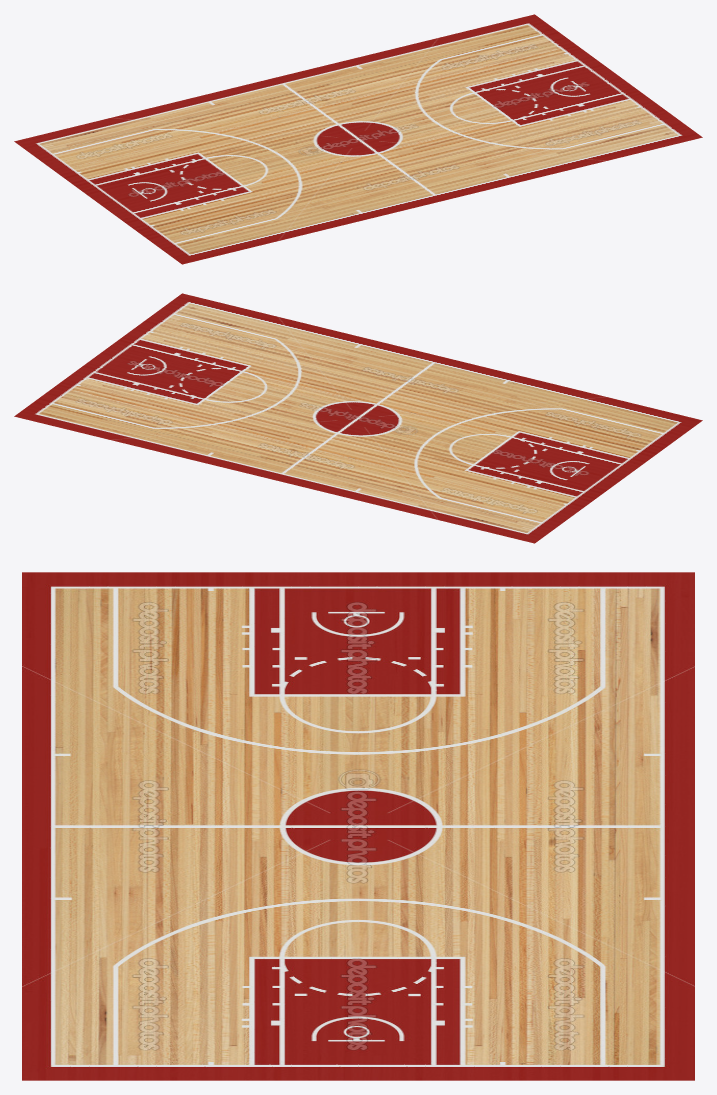
Rendered from Quadra_chao.fbx.
3 renders of one model, top to bottom at view 1: azimuth 30°, elevation 25°; view 2: azimuth 150°, elevation 25°; view 3: azimuth 270°, elevation 25°, orthographic. The views are drawn at different scales.
Parts seen in each view (by area): view 1: Quadra; view 2: Quadra; view 3: Quadra.
Part boxes in pixels (x1,y1,x2,y2): Quadra: [14, 14, 702, 264]; Quadra: [14, 293, 702, 543]; Quadra: [22, 572, 694, 1080].
Bounding box in the file's own units: 29.85 × 2.49e-16 × 16.7.
1 material, 1 textured.
